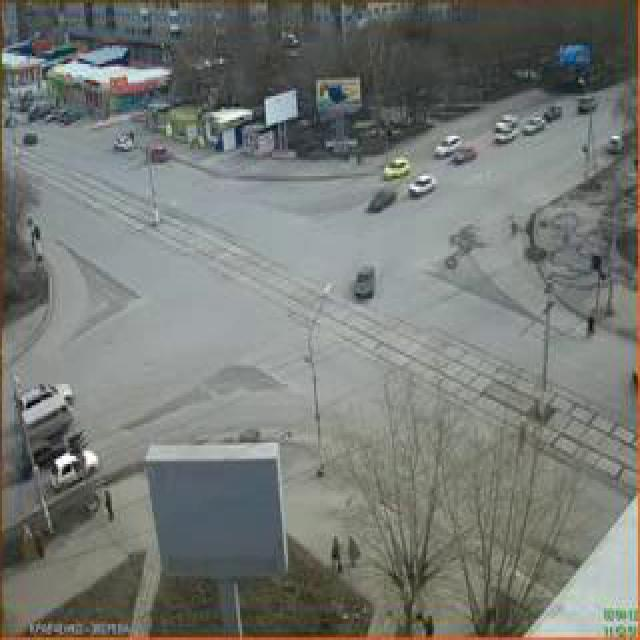road accidents: (258, 0, 640, 571)
